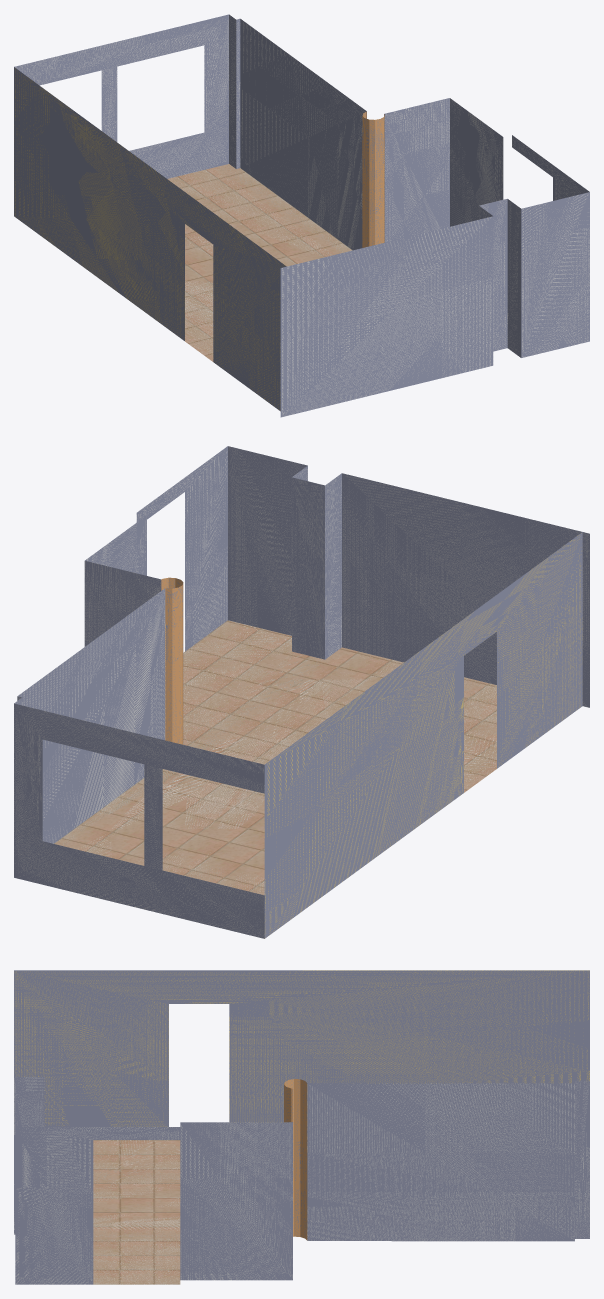
The model's file is AUL029.obj.
3 views of the same model, one above another, from view 1: azimuth 30°, elevation 25°; view 2: azimuth 150°, elevation 25°; view 3: azimuth 270°, elevation 25° (orthographic). The views are drawn at different scales.
Parts seen in each view (by area): view 1: Mesh1 AUL029 Model; view 2: Mesh1 AUL029 Model; view 3: Mesh1 AUL029 Model.
Part boxes in pixels (box(x1,y1,x2,y2)): Mesh1 AUL029 Model: box(14, 14, 589, 417); Mesh1 AUL029 Model: box(14, 446, 589, 938); Mesh1 AUL029 Model: box(14, 970, 589, 1284).
Size of the model in its own units: 7.82 by 3.6 by 11.91.
Materials: 6 (3 with a texture image).
